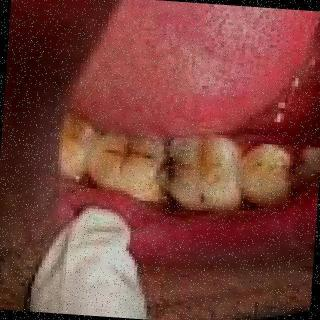cavities: (137, 139, 197, 186)
